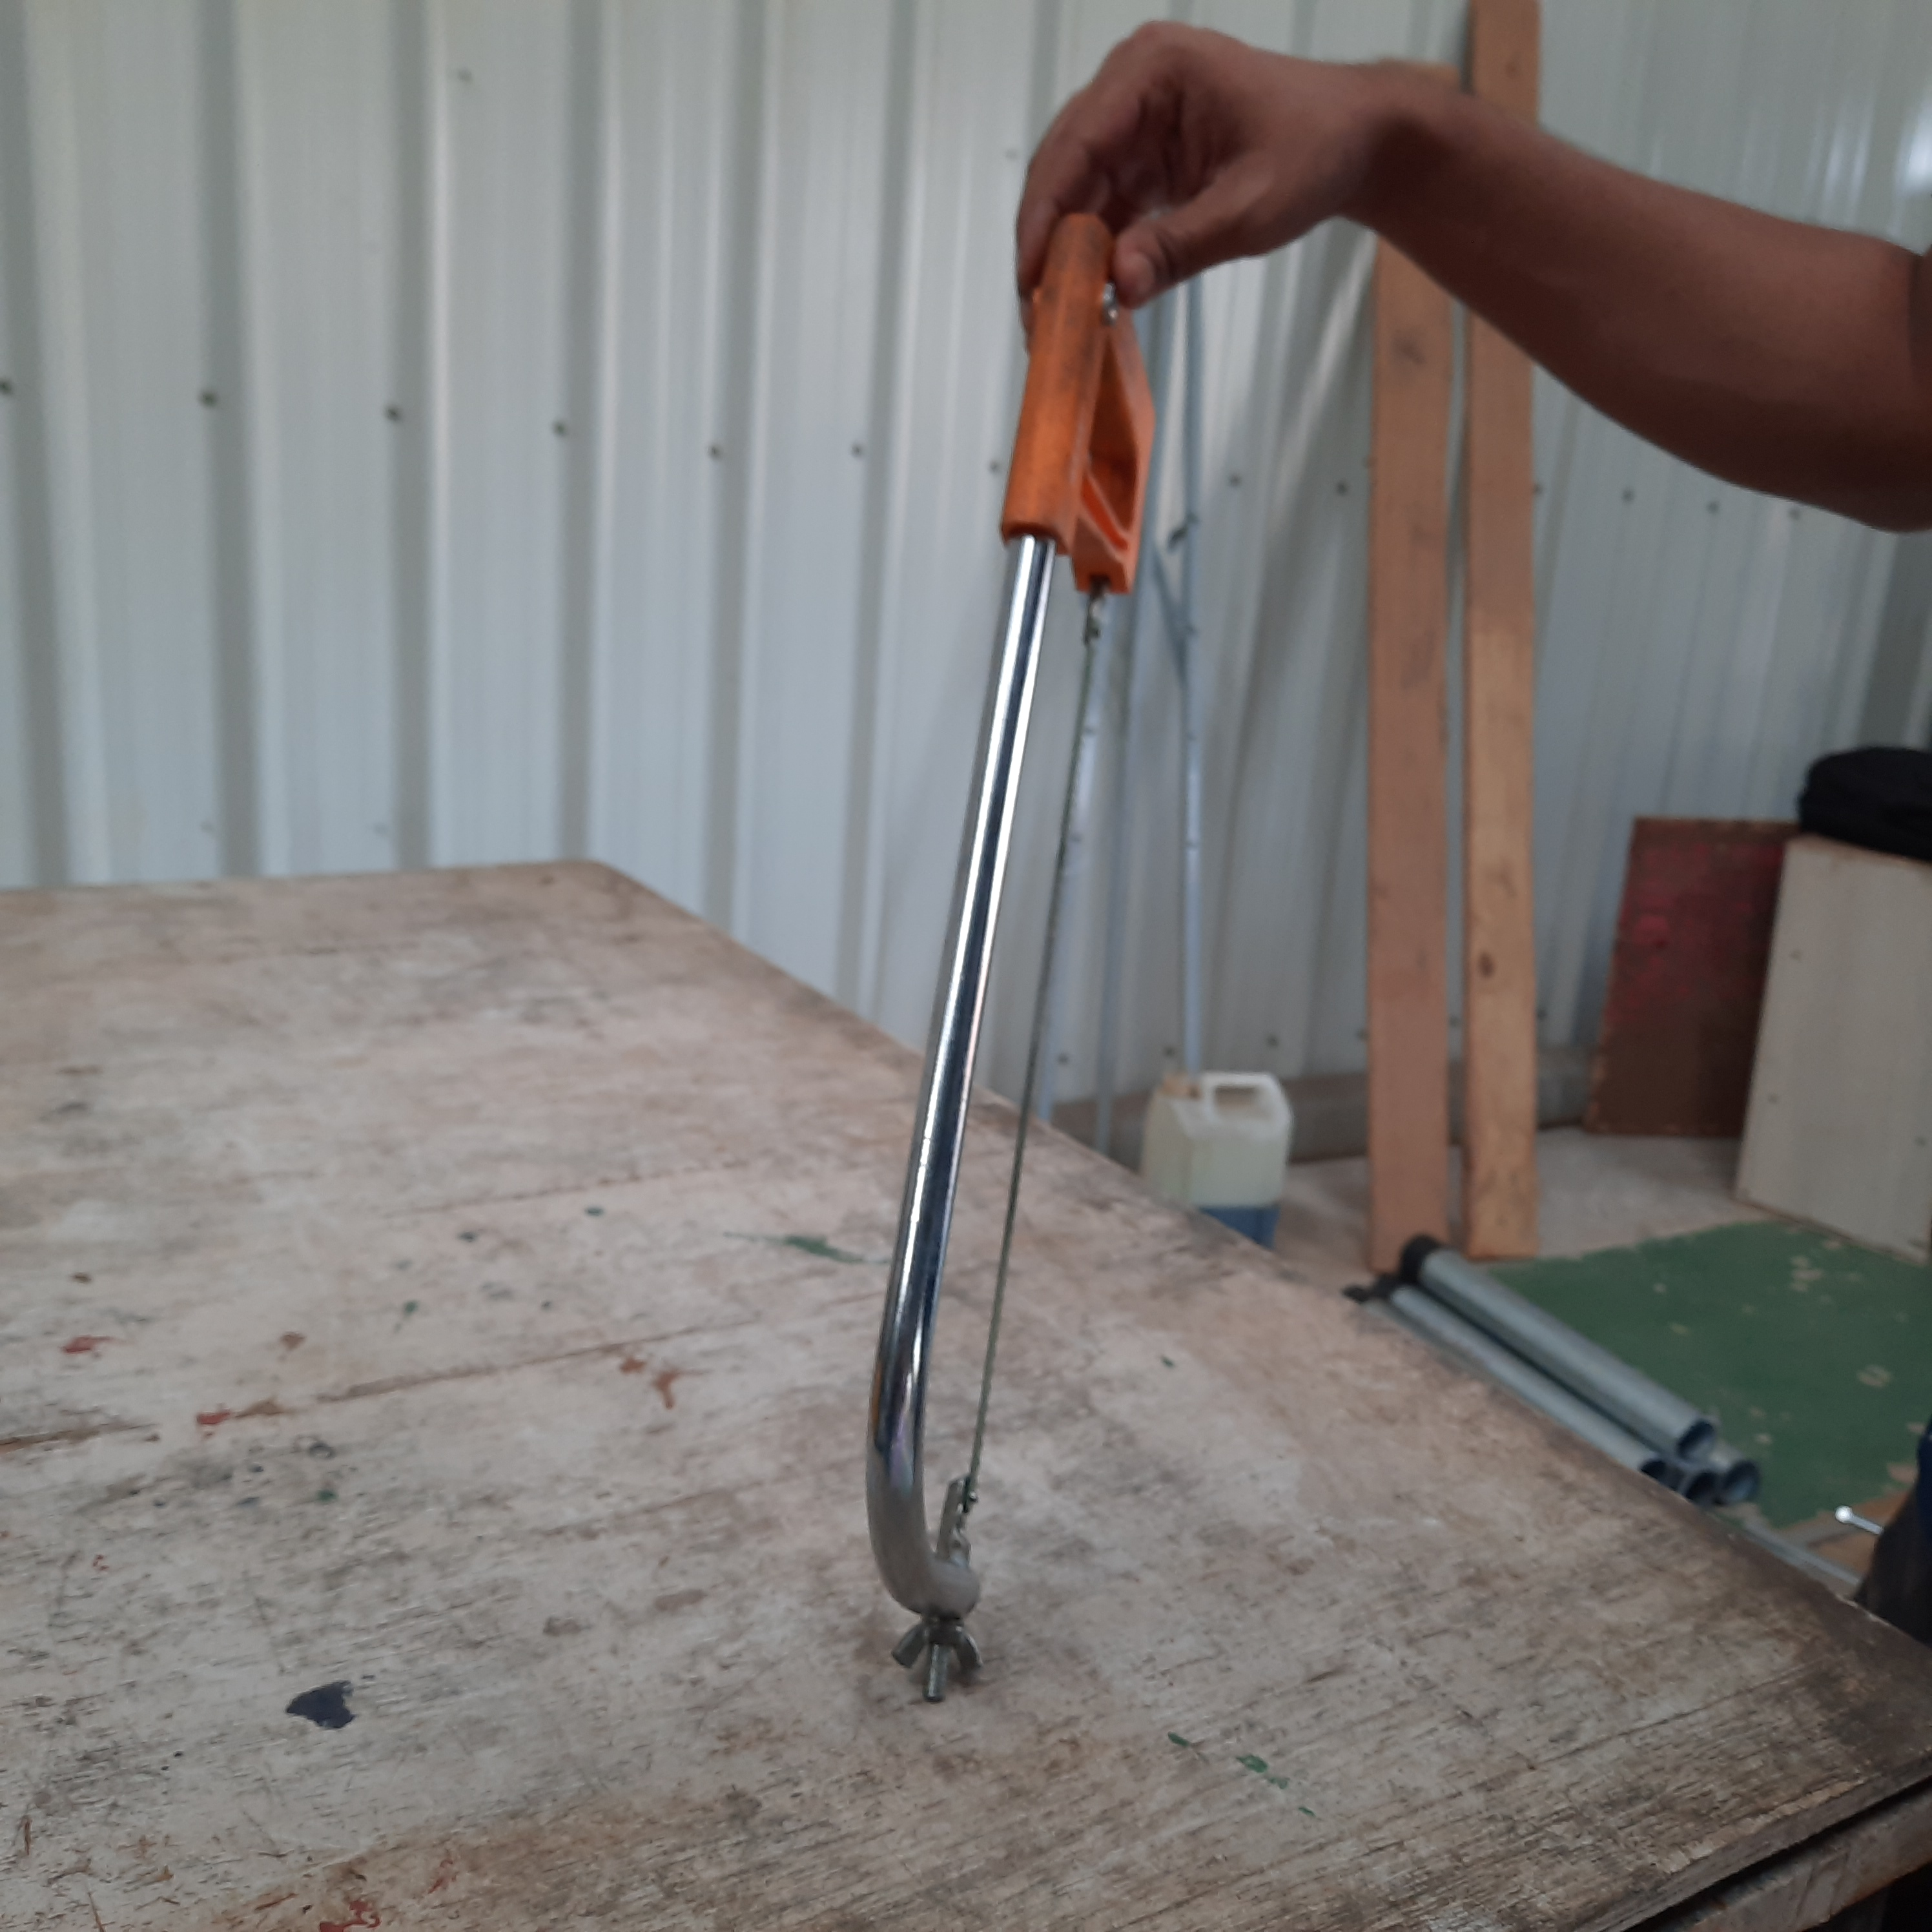Hexaframe: (819, 216, 1217, 1725)
